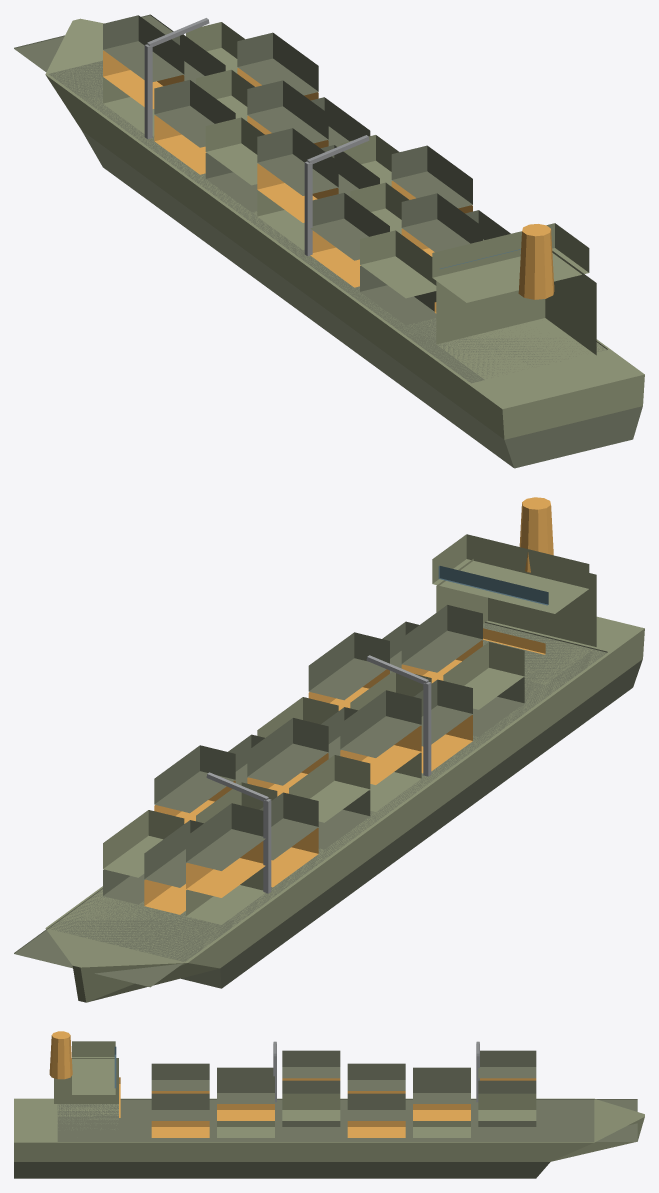
The model's file is mass_cargo_ship.glb.
3 renders of one model, top to bottom at view 1: azimuth 30°, elevation 25°; view 2: azimuth 150°, elevation 25°; view 3: azimuth 270°, elevation 25°, orthographic. The views are drawn at different scales.
Parts seen in each view (by area): view 1: mass_cargo_ship; view 2: mass_cargo_ship; view 3: mass_cargo_ship.
Part boxes in pixels (x1=…): mass_cargo_ship: x1=14, y1=14, x2=644, y2=468; mass_cargo_ship: x1=14, y1=497, x2=644, y2=1002; mass_cargo_ship: x1=14, y1=1031, x2=644, y2=1178.
Bounding box in the file's own units: 14.4 × 19 × 87.
